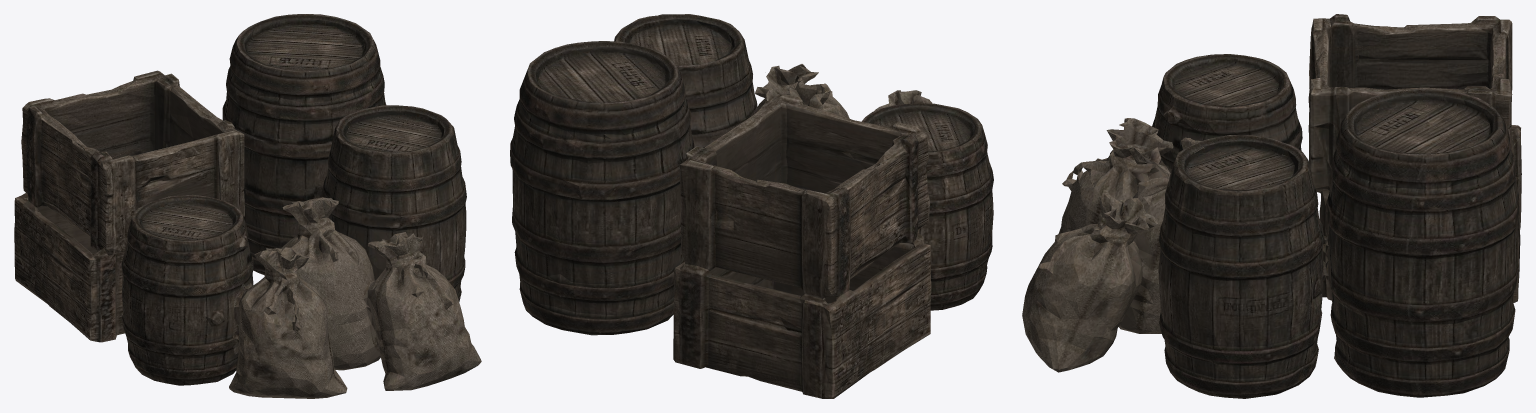
File: supply_pile.glb
The picture shows the model from 3 angles, left to right: view 1: azimuth 30°, elevation 25°; view 2: azimuth 150°, elevation 25°; view 3: azimuth 270°, elevation 25°; orthographic projection. The views are drawn at different scales.
Parts seen in each view (by area): view 1: lo; view 2: lo; view 3: lo.
Boxes of the visible parts, bbox=[...] form: lo: bbox=[14, 14, 481, 398]; lo: bbox=[510, 14, 993, 398]; lo: bbox=[1022, 14, 1521, 398].
Bounding box in the file's own units: 1.78 × 1.07 × 2.
Materials: 1 (1 with a texture image).
